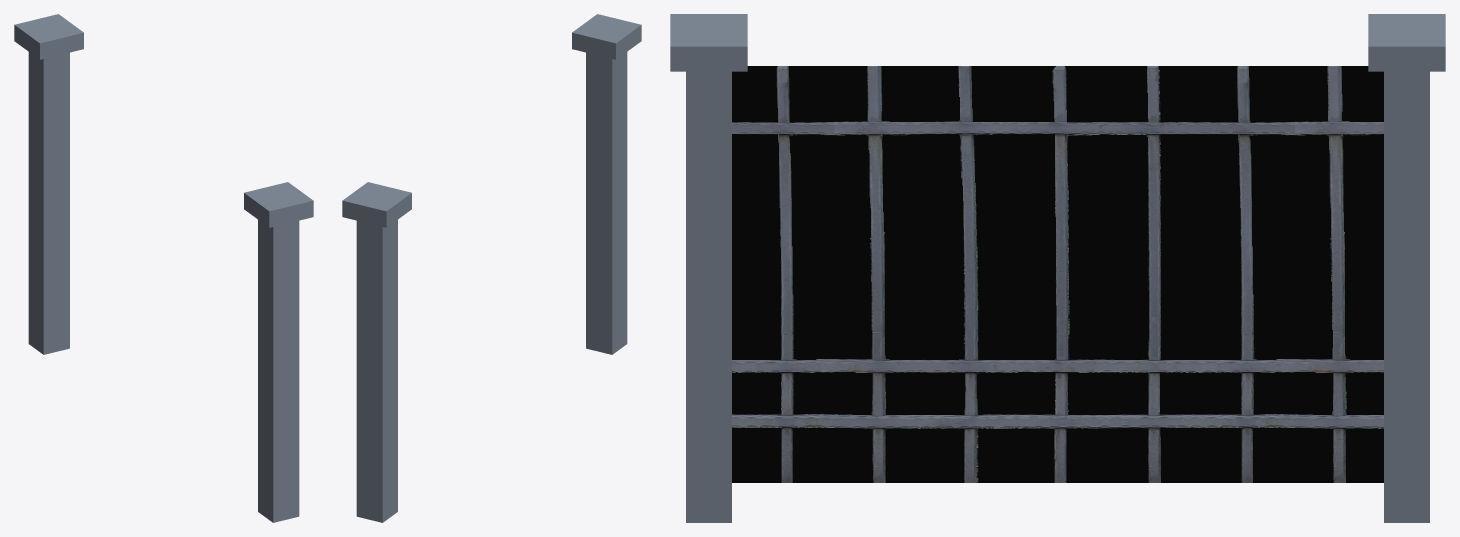
The model's file is metal_fence.glb.
The picture shows the model from 3 angles, left to right: view 1: azimuth 30°, elevation 25°; view 2: azimuth 150°, elevation 25°; view 3: azimuth 270°, elevation 25°; orthographic projection. The views are drawn at different scales.
Parts seen in each view (by area): view 1: Left.001, Right.001; view 2: Right.001, Left.001; view 3: Fence, Left.001, Right.001.
Part boxes in pixels (x1,y1,x2,y2): Left.001: (244,182,313,522); Right.001: (14,14,83,354); Right.001: (342,182,411,522); Left.001: (572,14,641,354); Fence: (732,66,1383,482); Left.001: (670,14,747,522); Right.001: (1368,14,1445,522).
Bounding box in the file's own units: 0.444 × 3.05 × 4.44.
Materials: 2 (1 with a texture image).
